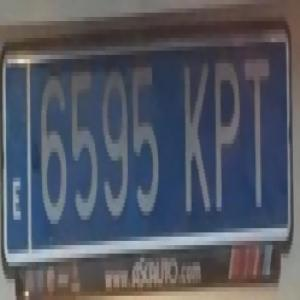Plate: (1, 23, 293, 266)
